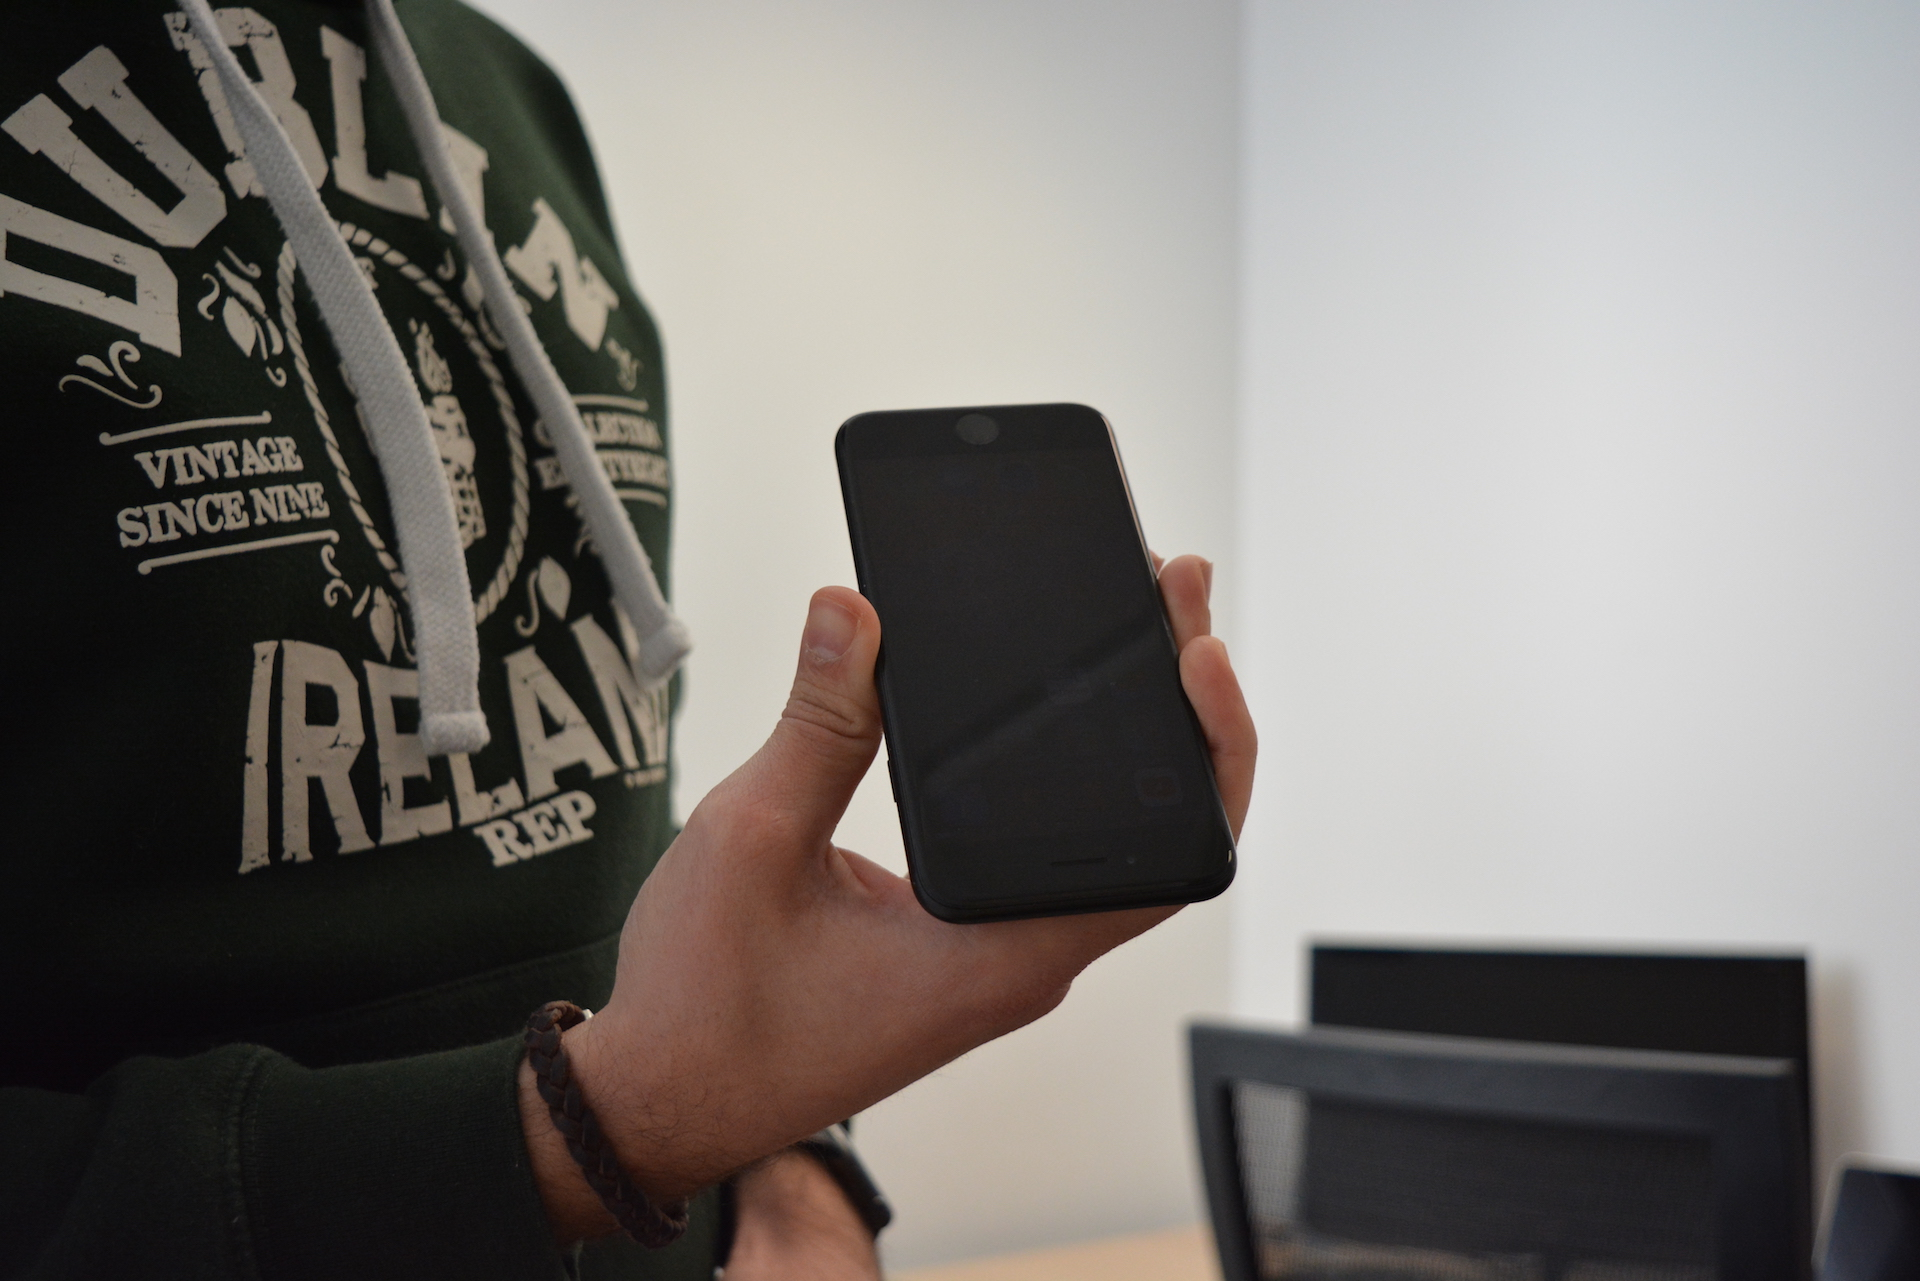smartphone: (831, 399, 1242, 929)
